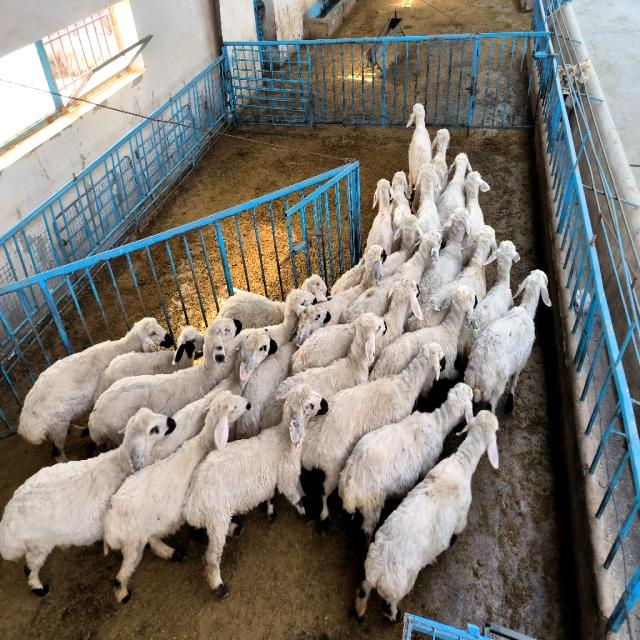sheep: (0, 408, 174, 591), (104, 392, 249, 602), (184, 385, 326, 595), (356, 410, 498, 619), (301, 343, 444, 519), (18, 318, 168, 461), (339, 383, 472, 544), (89, 318, 239, 446), (149, 330, 278, 462), (464, 270, 551, 412), (369, 285, 478, 380), (406, 225, 498, 331), (456, 240, 520, 369), (96, 325, 204, 398), (419, 208, 470, 303), (375, 277, 421, 356), (291, 323, 355, 372), (438, 153, 471, 224), (416, 163, 441, 233), (464, 172, 490, 236), (431, 128, 450, 192)
